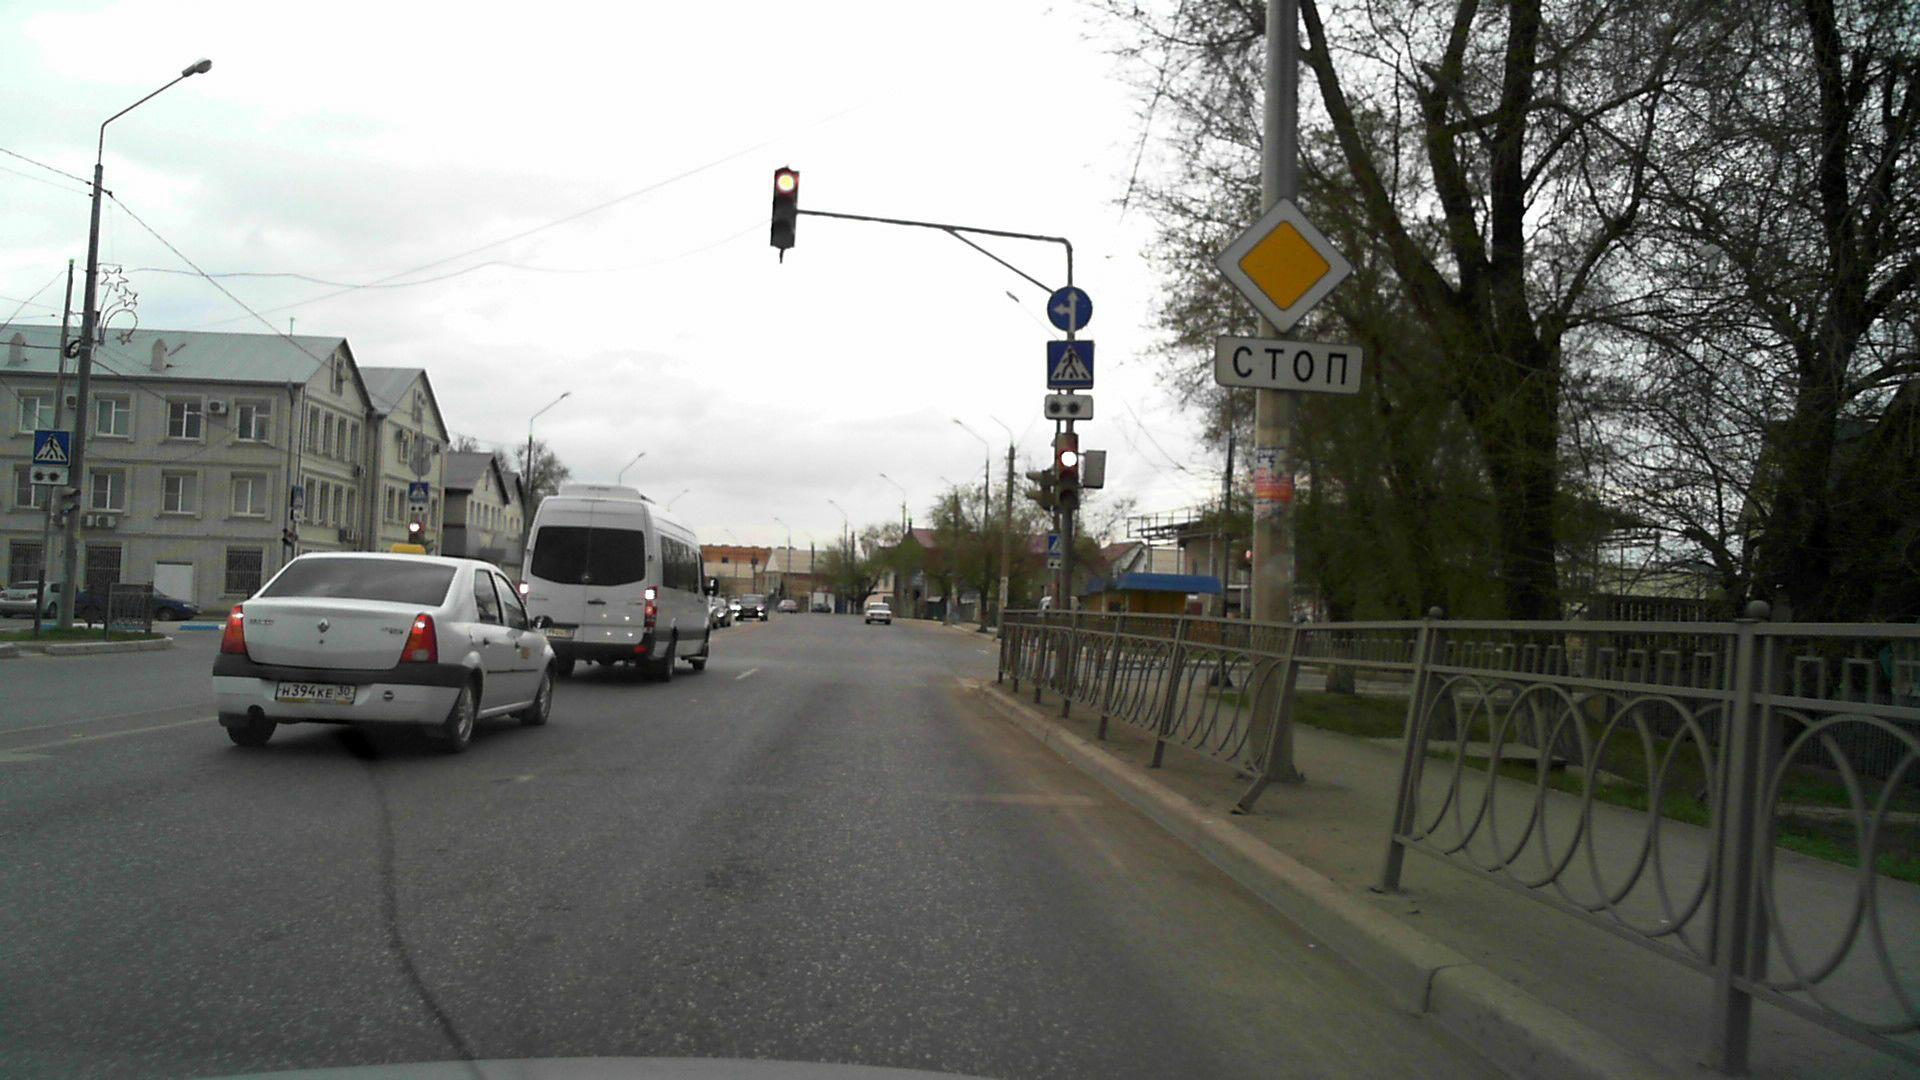2_1: (1215, 198, 1352, 331)
4_1_5: (1047, 285, 1095, 332)
5_19_1: (1044, 339, 1098, 390), (1046, 533, 1067, 555)
5_19_2: (409, 481, 431, 501), (291, 484, 309, 508)
6_16: (1215, 335, 1364, 401)
8_15: (1044, 393, 1093, 422), (30, 465, 69, 483), (406, 501, 430, 516), (1046, 558, 1064, 570), (291, 510, 305, 522)
